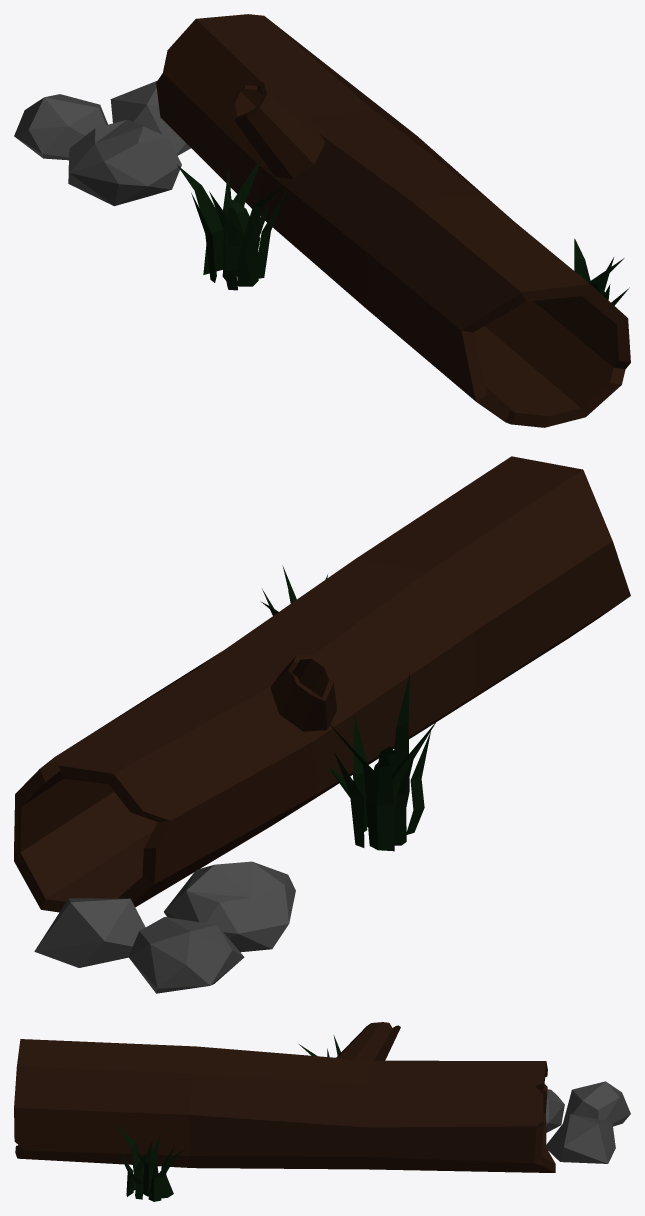
Rendered from LowPoly Tree .041.fbx.
3 renders of one model, top to bottom at view 1: azimuth 30°, elevation 25°; view 2: azimuth 150°, elevation 25°; view 3: azimuth 270°, elevation 25°, orthographic. The views are drawn at different scales.
Visible parts, largest first — view 1: LowPoly Tree .041; view 2: LowPoly Tree .041; view 3: LowPoly Tree .041.
Part boxes in pixels (box(x1,y1,x2,y2)): LowPoly Tree .041: box(14, 14, 630, 427); LowPoly Tree .041: box(14, 456, 630, 993); LowPoly Tree .041: box(14, 1022, 630, 1201).
Size of the model in its own units: 143 by 80.29 by 380.
